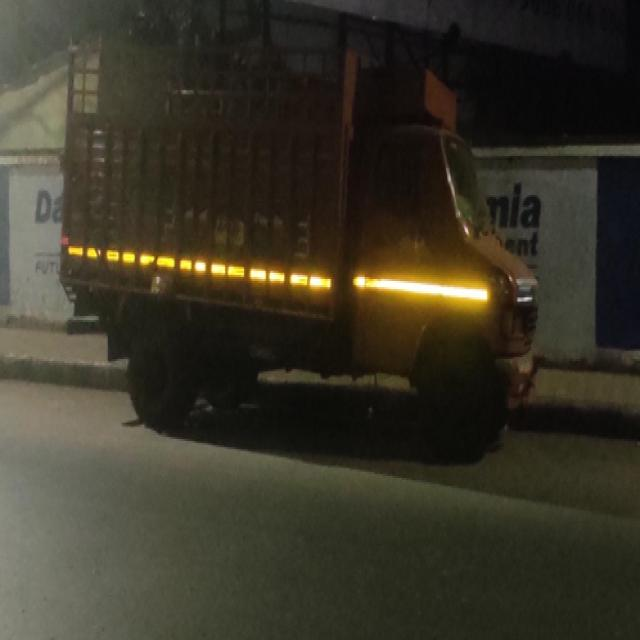minitruck: (54, 24, 553, 456)
